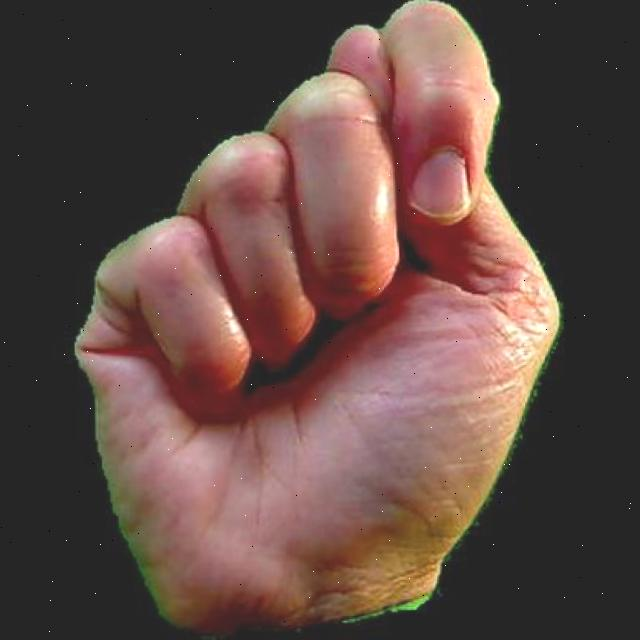t: (42, 0, 567, 640)
